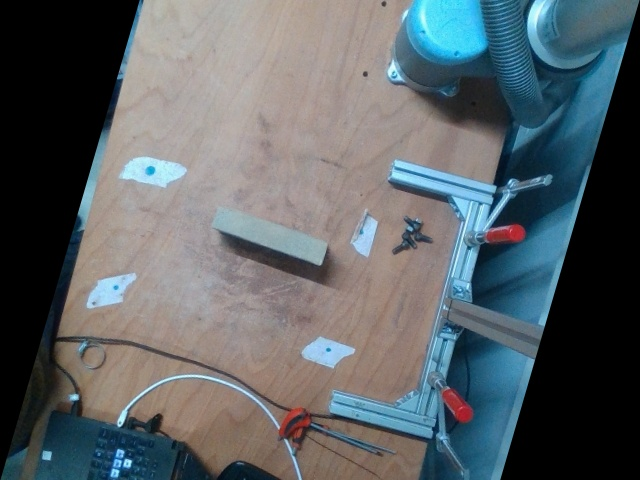brick-side: (215, 207, 324, 262)
